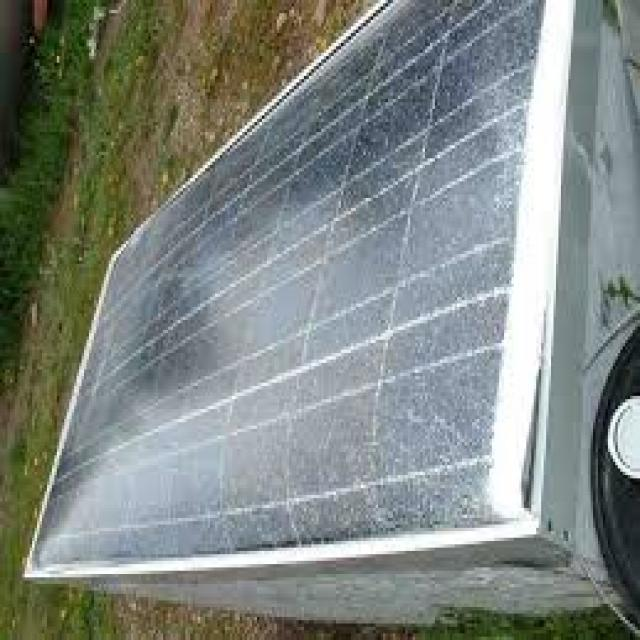faulty: (28, 2, 537, 567)
